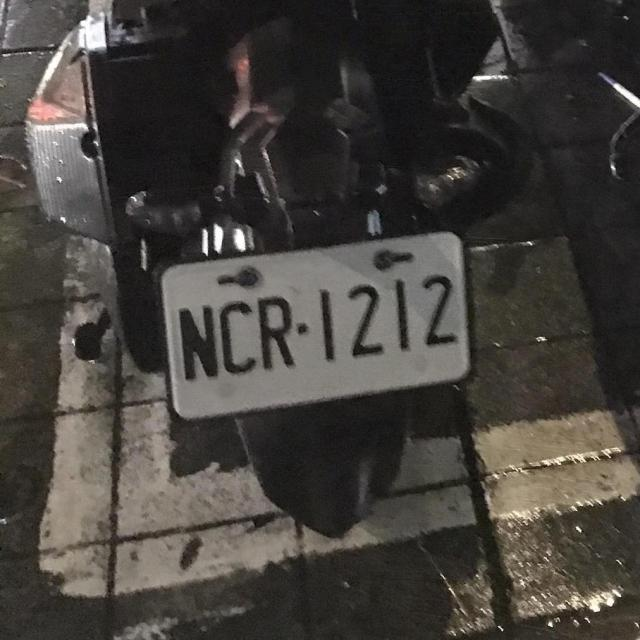W: (160, 230, 472, 422)
